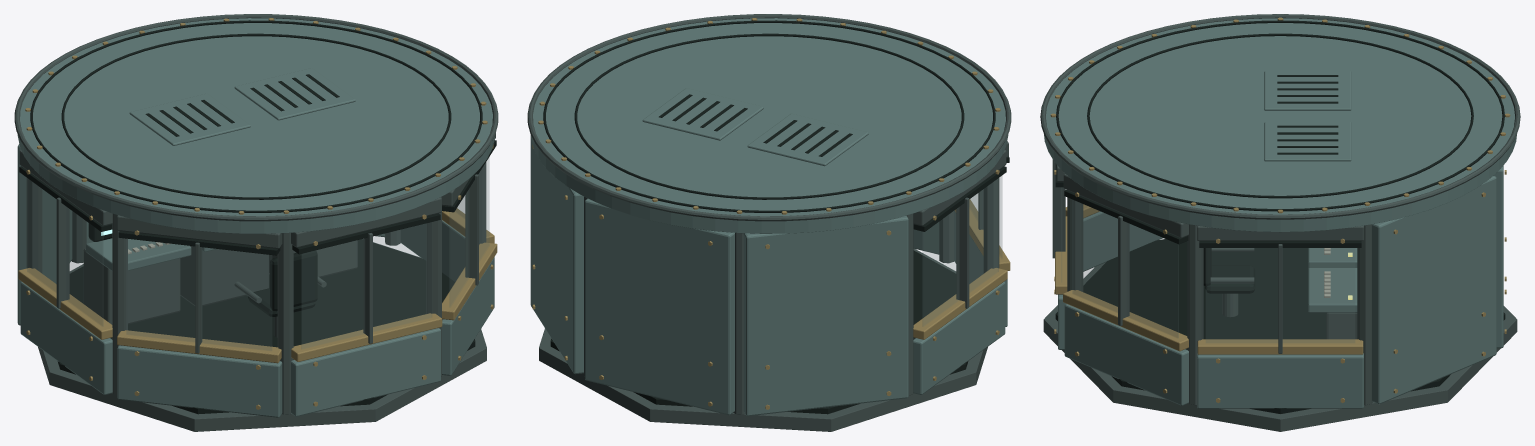
Rendered from rescue-control-pod.glb.
3 views of the same model, side by side, from view 1: azimuth 30°, elevation 25°; view 2: azimuth 150°, elevation 25°; view 3: azimuth 270°, elevation 25° (orthographic).
Parts seen in each view (by area): view 1: rescue_control_paint, rescue_control_steel, rescue_control_glass, rescue_control_rubber, rescue_control_brass; view 2: rescue_control_paint, rescue_control_steel, rescue_control_rubber, rescue_control_glass, rescue_control_brass; view 3: rescue_control_paint, rescue_control_steel, rescue_control_rubber, rescue_control_glass, rescue_control_brass.
Part boxes in pixels (x1,y1,x2,y2): rescue_control_paint: [17, 18, 494, 417]; rescue_control_steel: [14, 14, 498, 431]; rescue_control_glass: [27, 158, 489, 350]; rescue_control_rubber: [19, 20, 496, 414]; rescue_control_brass: [18, 18, 497, 409]; rescue_control_paint: [530, 18, 1008, 416]; rescue_control_steel: [527, 14, 1011, 431]; rescue_control_rubber: [543, 20, 1009, 414]; rescue_control_glass: [922, 176, 1002, 326]; rescue_control_brass: [532, 18, 1010, 409]; rescue_control_paint: [1044, 18, 1516, 408]; rescue_control_steel: [1040, 14, 1520, 431]; rescue_control_rubber: [1055, 20, 1505, 413]; rescue_control_glass: [1072, 200, 1354, 342]; rescue_control_brass: [1050, 17, 1510, 402].
Size of the model in its own units: 4.4 by 2.2 by 4.4.
